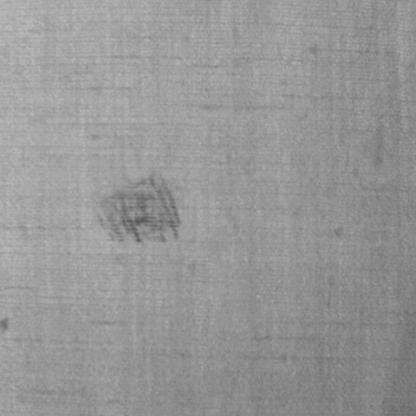oil spot: (92, 168, 184, 246)
